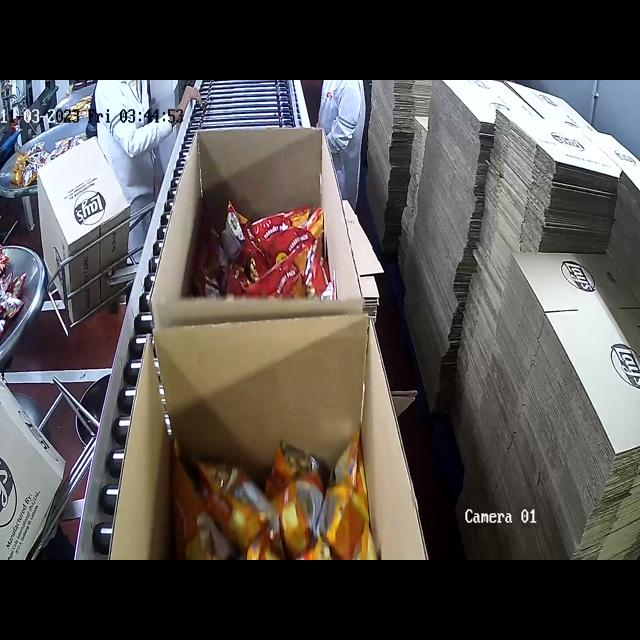cheese: (180, 435, 358, 560)
masala: (194, 205, 360, 318)
